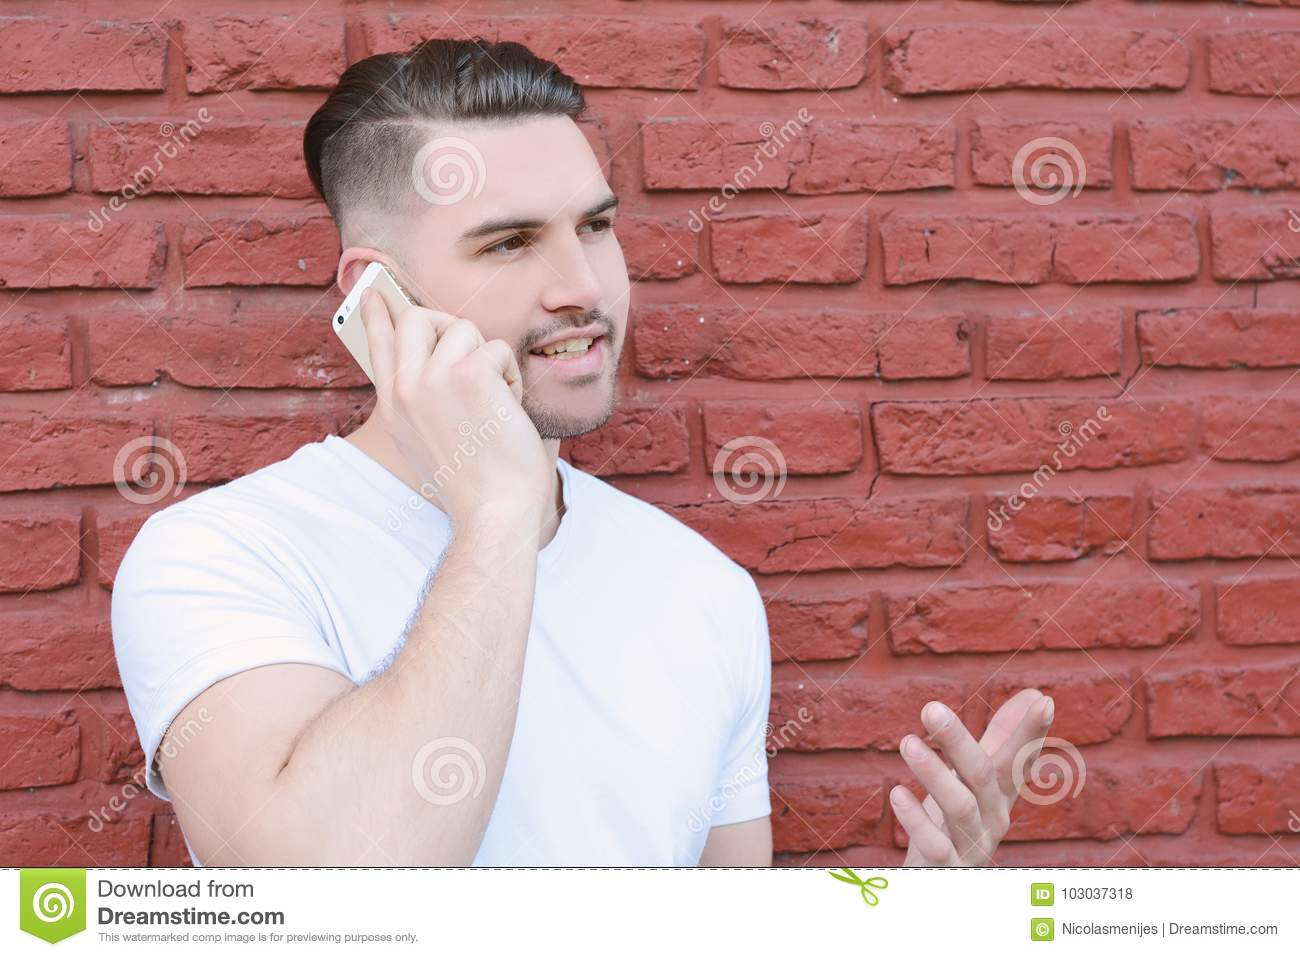phone: (332, 263, 459, 393)
talk: (331, 185, 635, 537)
